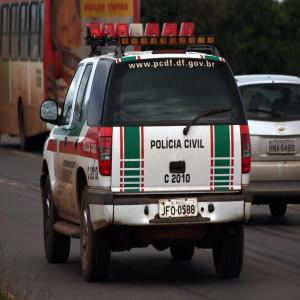Vehicle-registration-plate: (160, 197, 200, 219), (269, 140, 298, 154)
